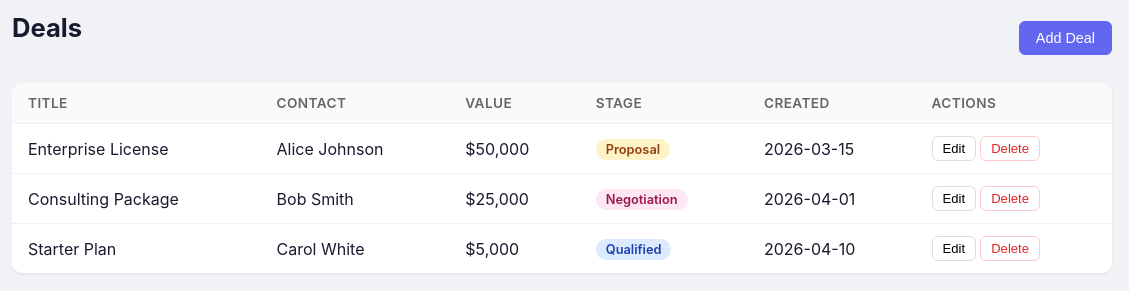
Test: Deals › deletes a deal
What coordinates should you click on to do the following:
click the button "Delete" in the row of "Enterprise License"
I would click on:
 (1010, 148)
Its box is [980,136,1040,161].
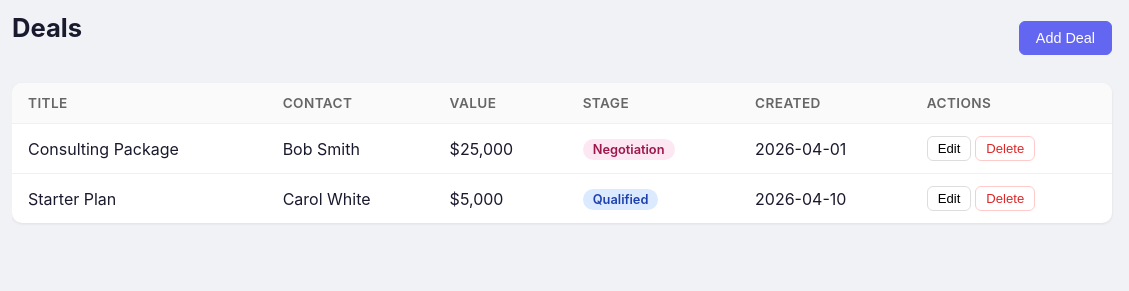
Result: the text "Enterprise License" is gone
